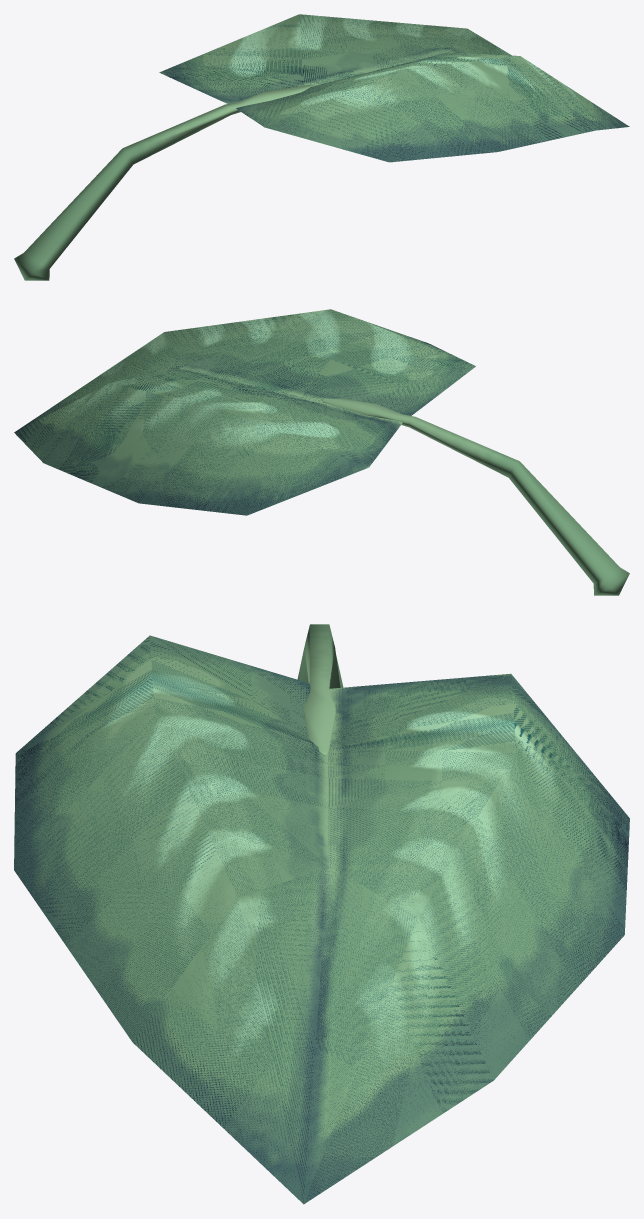
File: leaf01.fbx
3 renders of one model, top to bottom at view 1: azimuth 30°, elevation 25°; view 2: azimuth 150°, elevation 25°; view 3: azimuth 270°, elevation 25°, orthographic. The views are drawn at different scales.
Visible parts, largest first — view 1: leaf01; view 2: leaf01; view 3: leaf01.
Part boxes in pixels (x1=…): leaf01: x1=14, y1=14, x2=629, y2=280; leaf01: x1=14, y1=309, x2=629, y2=595; leaf01: x1=14, y1=624, x2=629, y2=1204.
Size of the model in its own units: 0.6358 by 0.1676 by 0.3296.
